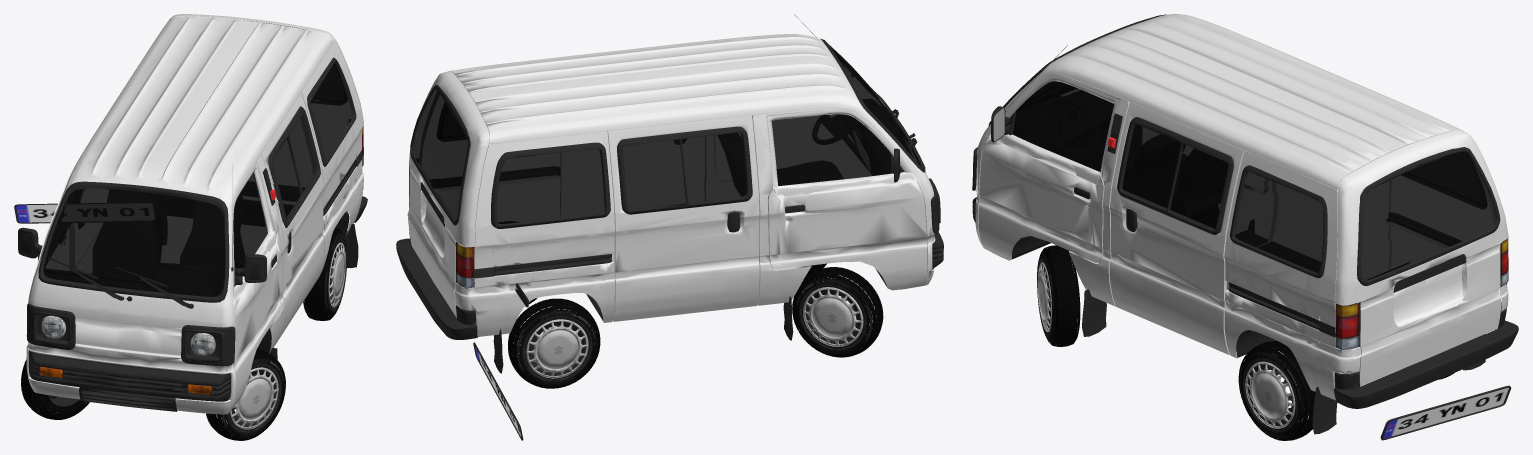
File: suzuki-carry.glb
3 views of the same model, side by side, from view 1: azimuth 30°, elevation 25°; view 2: azimuth 150°, elevation 25°; view 3: azimuth 270°, elevation 25° (orthographic). The views are drawn at different scales.
Visible parts, largest first — view 1: 3DSMeshMatrix (×17); view 2: 3DSMeshMatrix (×14); view 3: 3DSMeshMatrix (×16).
Part boxes in pixels (x1=…): 3DSMeshMatrix (×17): x1=14, y1=14, x2=367, y2=440; 3DSMeshMatrix (×14): x1=396, y1=34, x2=943, y2=440; 3DSMeshMatrix (×16): x1=972, y1=14, x2=1518, y2=440.
Bounding box in the file's own units: 311 × 202 × 310.
17 materials, 5 textured.
